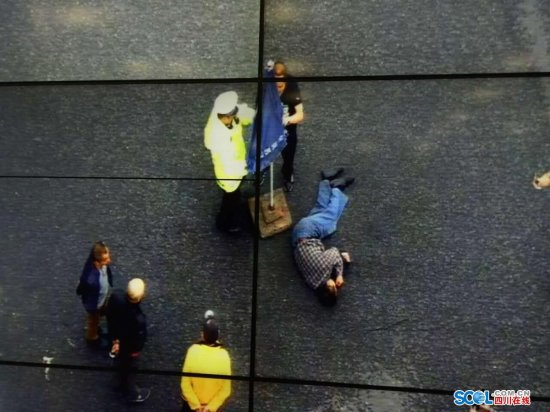fall: (283, 163, 361, 304)
